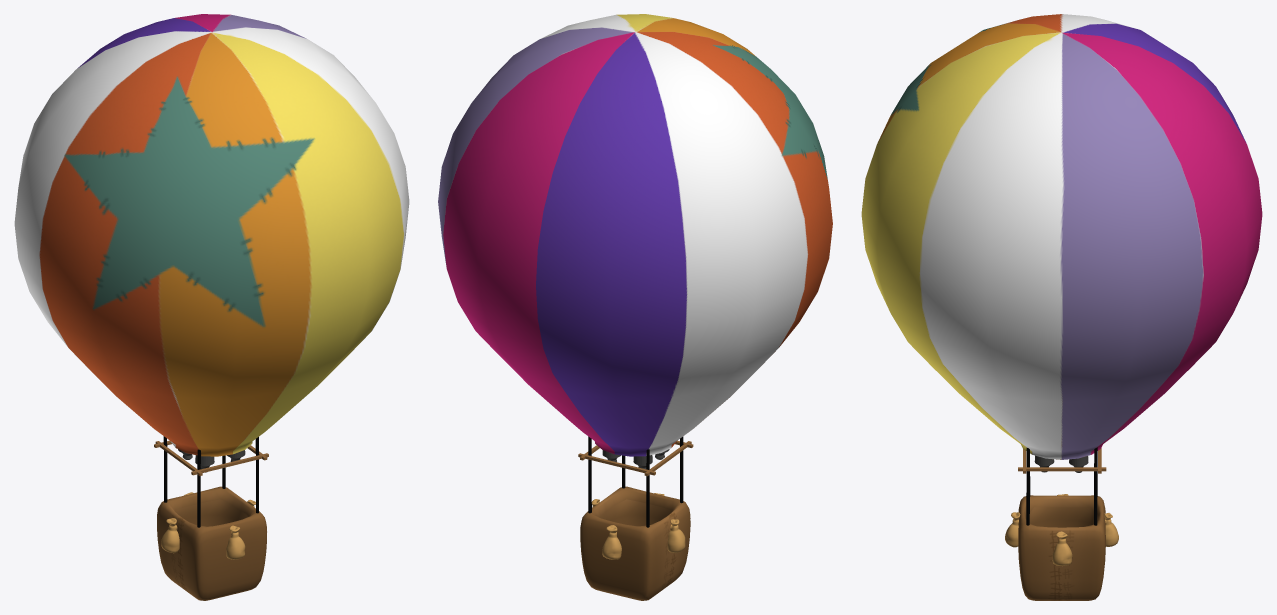
File: balloon_16.03.2020_1.fbx
The picture shows the model from 3 angles, left to right: view 1: azimuth 30°, elevation 25°; view 2: azimuth 150°, elevation 25°; view 3: azimuth 270°, elevation 25°; orthographic projection.
Visible parts, largest first — view 1: Cube; view 2: Cube; view 3: Cube.
Boxes of the visible parts, box(x1,y1,x2,y2) form: Cube: box(14, 14, 409, 600); Cube: box(438, 14, 832, 600); Cube: box(861, 14, 1262, 600).
Size of the model in its own units: 657 by 1006 by 657.
